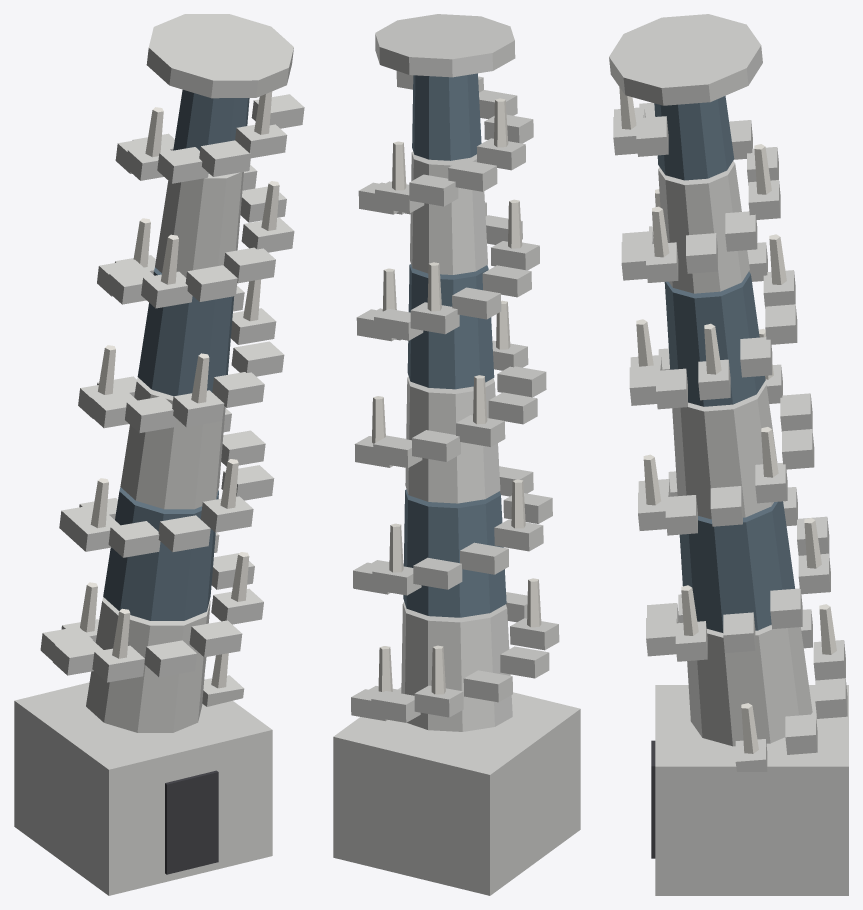
The model's file is VN_TorreEspiral.fbx.
The picture shows the model from 3 angles, left to right: view 1: azimuth 30°, elevation 25°; view 2: azimuth 150°, elevation 25°; view 3: azimuth 270°, elevation 25°; orthographic projection. The views are drawn at different scales.
Visible parts, largest first — view 1: VN_TorreEspiral; view 2: VN_TorreEspiral; view 3: VN_TorreEspiral.
Part boxes in pixels (left/top/right/bottom): VN_TorreEspiral: left=14, top=14, right=304, bottom=895; VN_TorreEspiral: left=333, top=14, right=580, bottom=895; VN_TorreEspiral: left=609, top=14, right=848, bottom=895.
Bounding box in the file's own units: 2.29 × 9.04 × 2.36.
